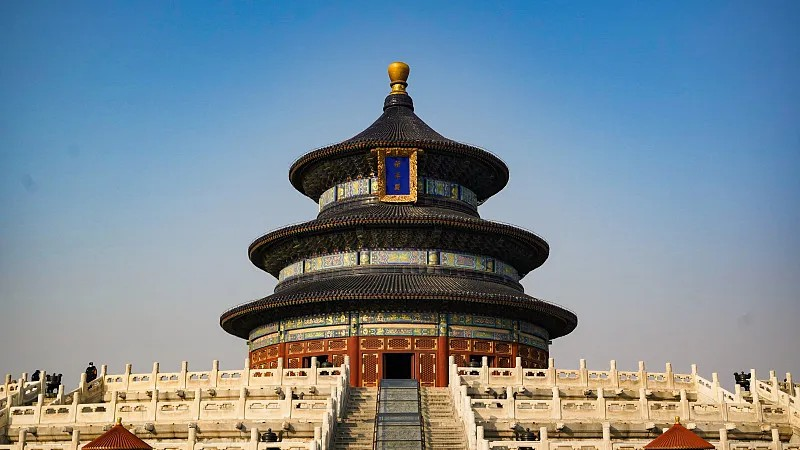Heaven: (218, 59, 577, 385)
